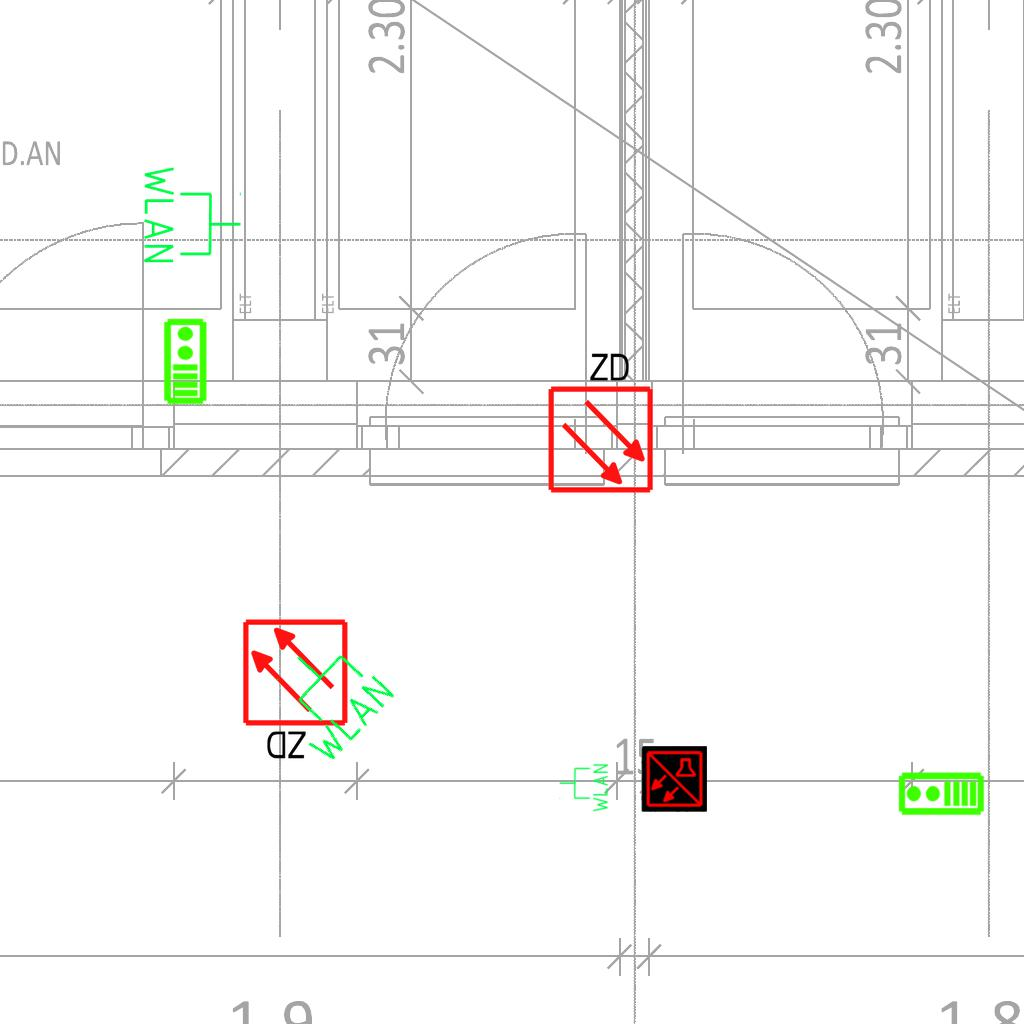Gegensprechanlage_mit_Video: (161, 317, 208, 405), (897, 771, 985, 818)
OKW_Multisensormelder_(Kombination_optischer_Rauch-Kahlenmonoxid_Waerme-Melder): (641, 746, 707, 812)
WLAN: (253, 623, 401, 772), (140, 162, 244, 267), (558, 762, 610, 814)
ZD_Melder_in_Zwischendecke_mit_Revisionsoeffnung_mind_40_x_40_cm: (240, 617, 354, 766), (542, 346, 656, 495)
